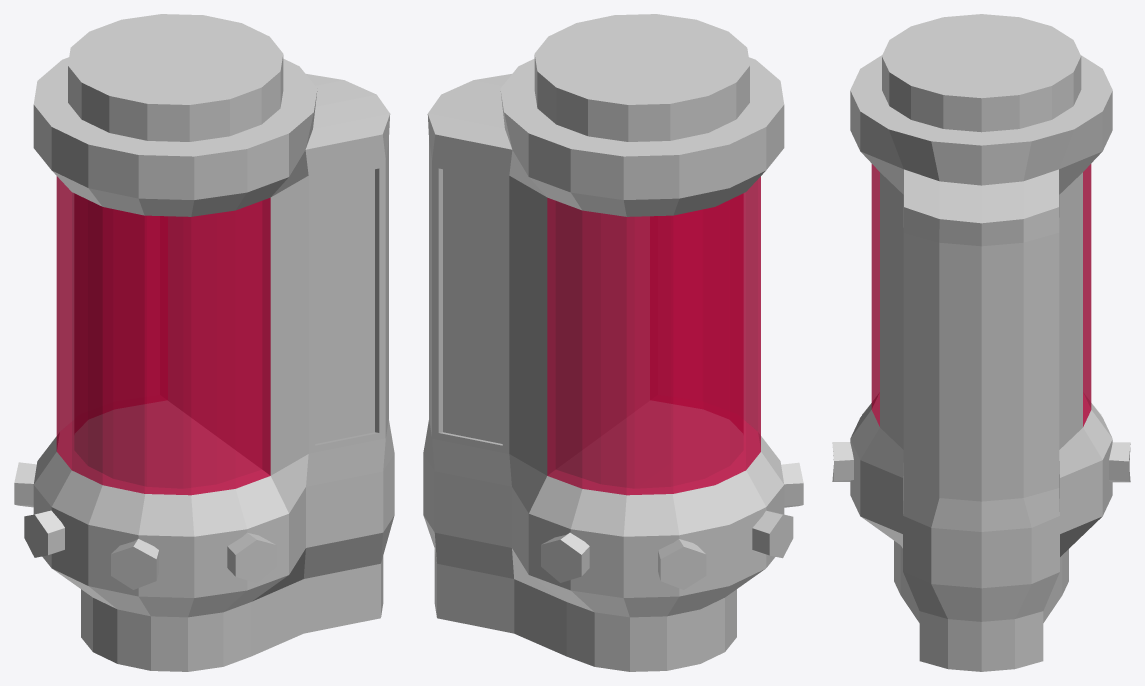
Rendered from MCGUFFIN.fbx.
3 renders of one model, left to right at view 1: azimuth 30°, elevation 25°; view 2: azimuth 150°, elevation 25°; view 3: azimuth 270°, elevation 25°, orthographic. The views are drawn at different scales.
Parts seen in each view (by area): view 1: Cylinder, Cylinder.003, Cylinder.001; view 2: Cylinder, Cylinder.003, Cylinder.001; view 3: Cylinder, Cylinder.003, Cylinder.001.
Boxes of the visible parts, x1=… form: Cylinder: x1=33, y1=14, x2=394, y2=671; Cylinder.003: x1=56, y1=176, x2=270, y2=495; Cylinder.001: x1=14, y1=462, x2=276, y2=589; Cylinder: x1=423, y1=14, x2=784, y2=671; Cylinder.003: x1=547, y1=176, x2=760, y2=495; Cylinder.001: x1=541, y1=462, x2=803, y2=589; Cylinder: x1=850, y1=14, x2=1112, y2=671; Cylinder.003: x1=871, y1=164, x2=1091, y2=426; Cylinder.001: x1=832, y1=404, x2=1130, y2=482.
Size of the model in its own units: 330 by 530 by 271.
